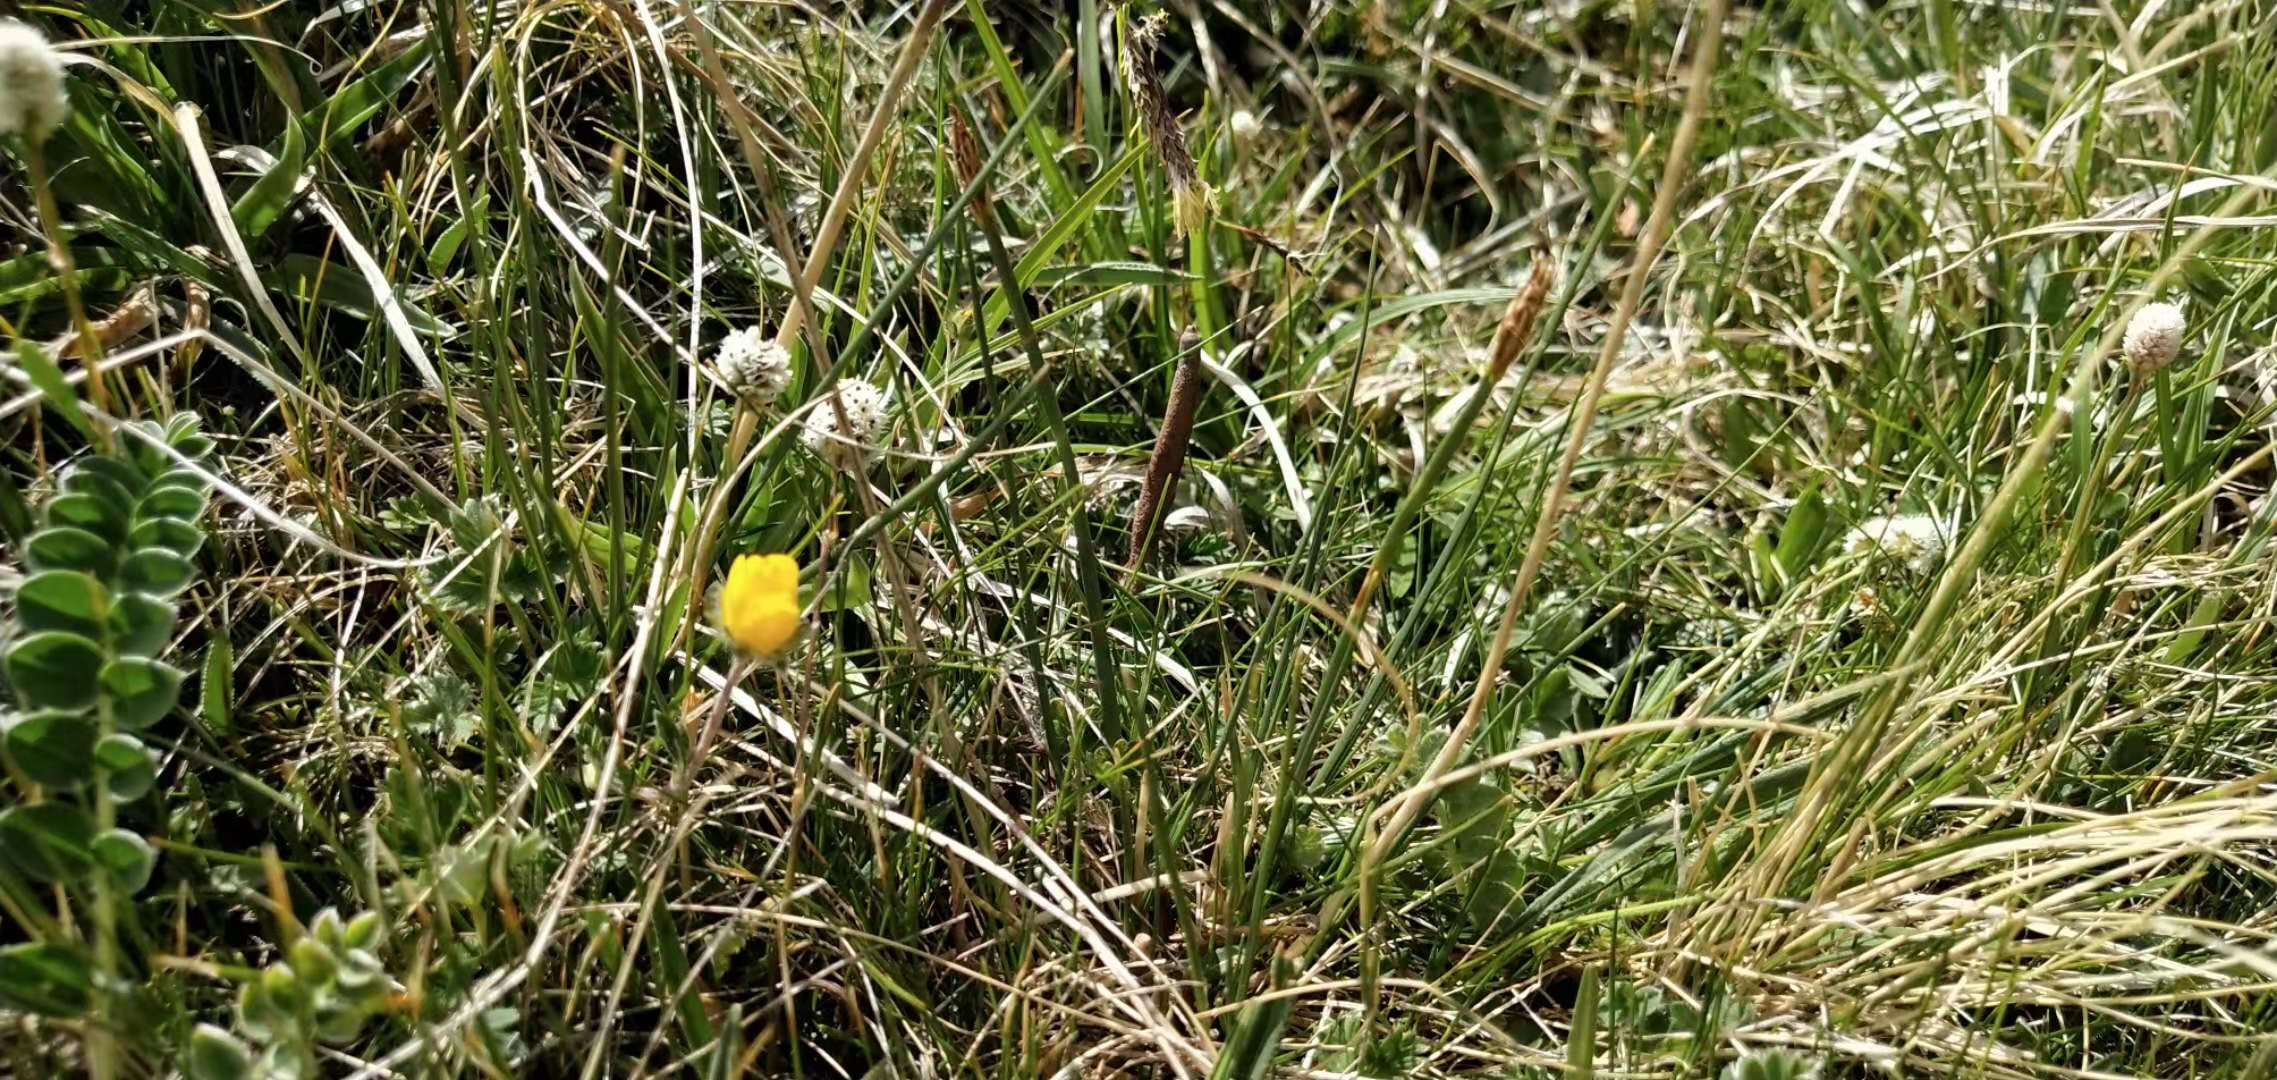cpf: (1124, 324, 1205, 581)
